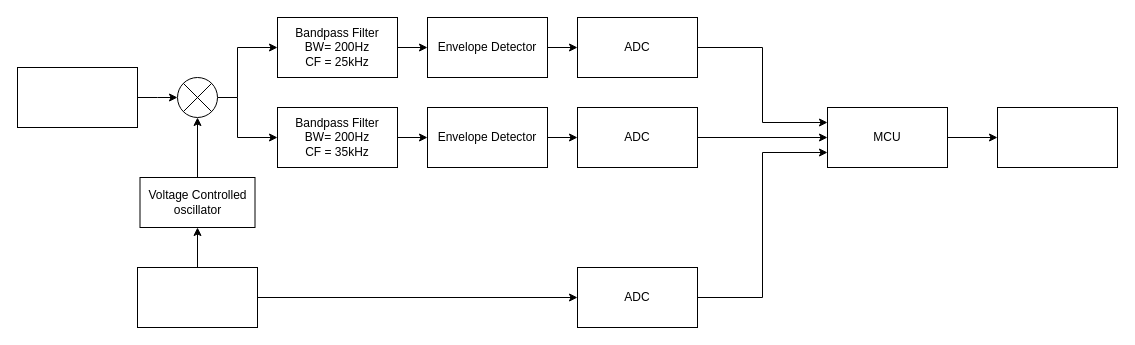
The diagram is 1135 pixels wide and 345 high, and some of its shapes have lost their labels. The box of each missing label's shape, as (x1, y1, x2, y2) in pixels:
Display: (996, 106, 1118, 168)
Low Pass Filter BW = 20kHz: (16, 66, 138, 128)
Sawtooth Generator: (136, 266, 258, 328)
